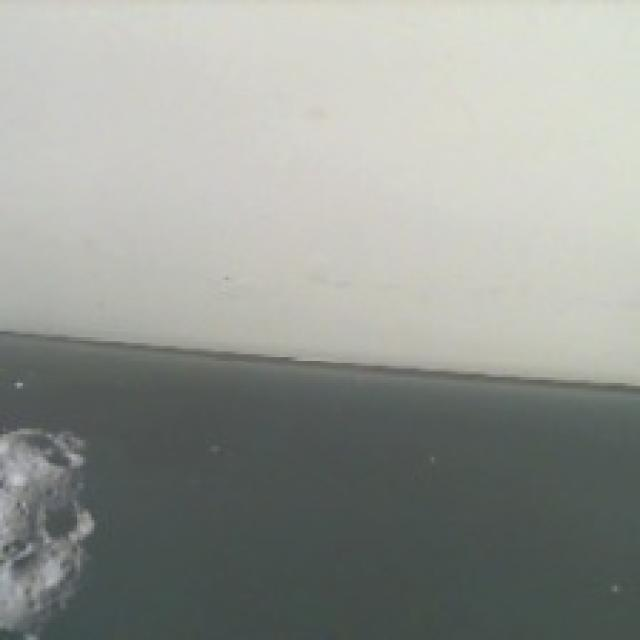Asteroid: (0, 425, 99, 640)
